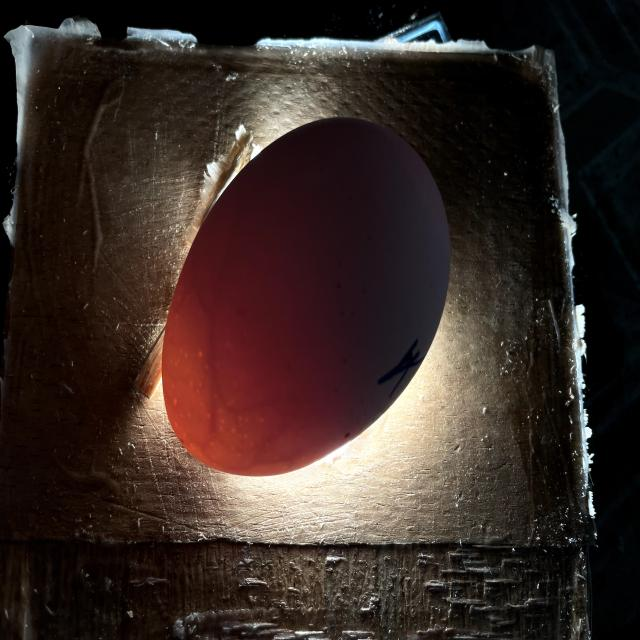fertile: (161, 118, 450, 475)
